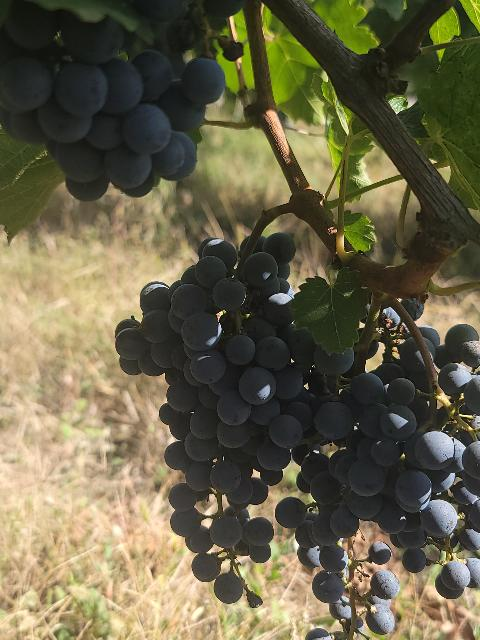grapes: (115, 232, 302, 602), (330, 305, 480, 588), (281, 345, 399, 640), (349, 372, 384, 420)
